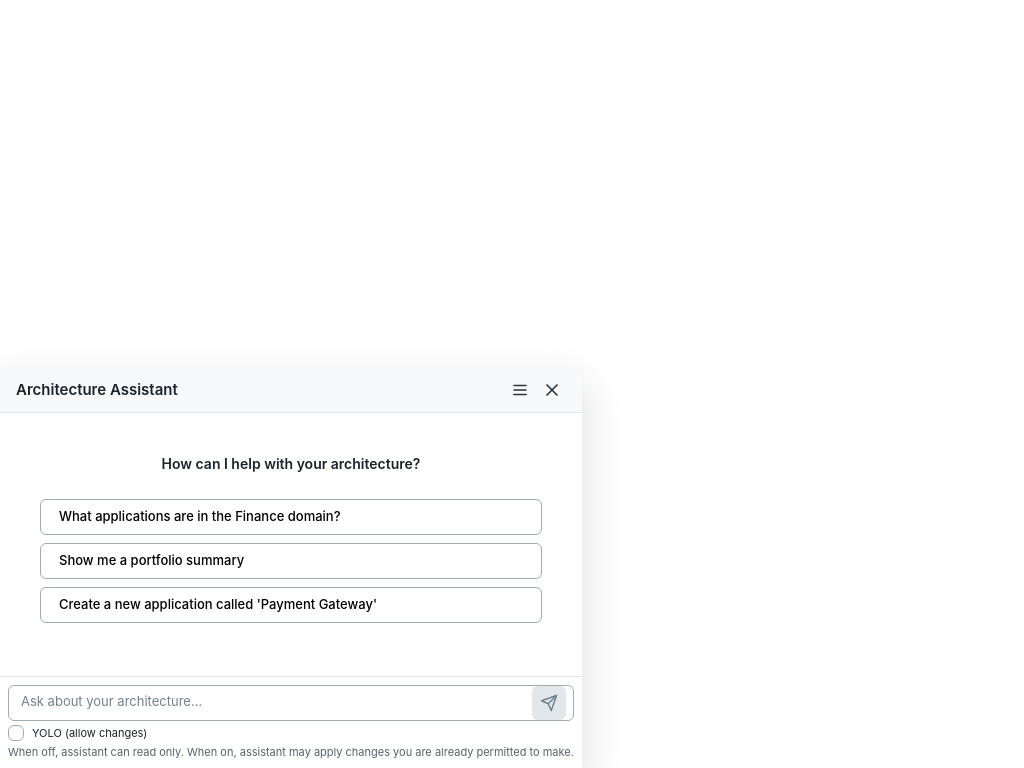
ChatPanel › should load conversation messages when selecting a previous conversation
Click the button named "Conversation history" at (520, 390), box [506, 376, 534, 404]
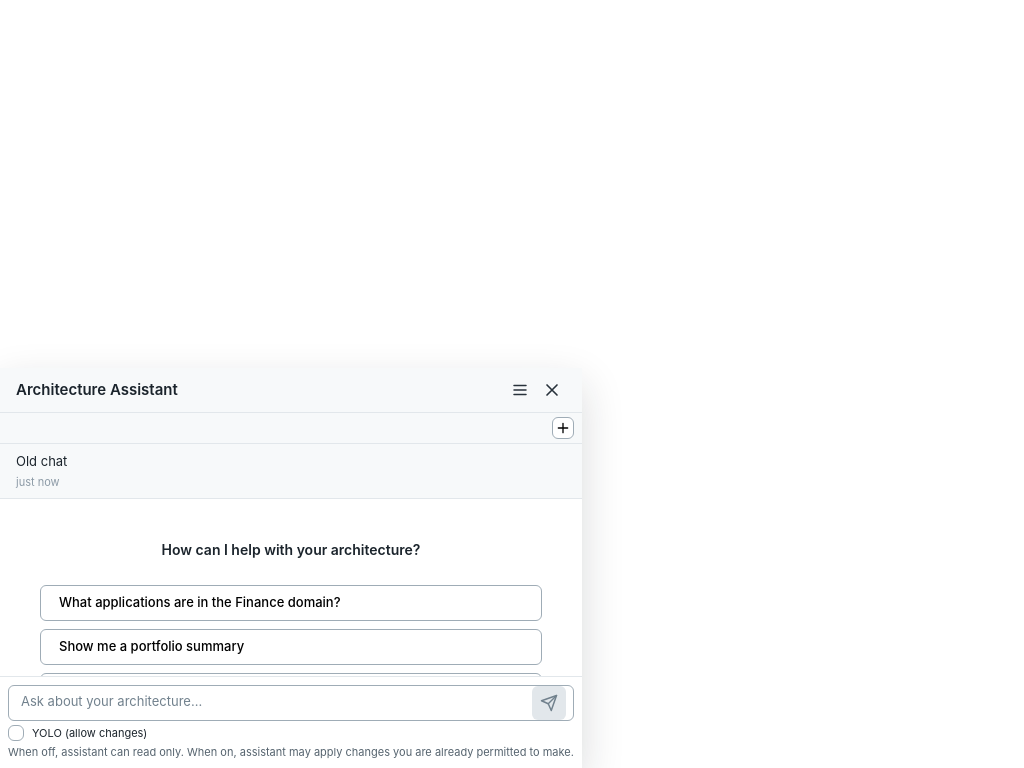
Expected: the text "Old chat" is shown
Click the text "Old chat" at (42, 462), box [16, 452, 67, 472]
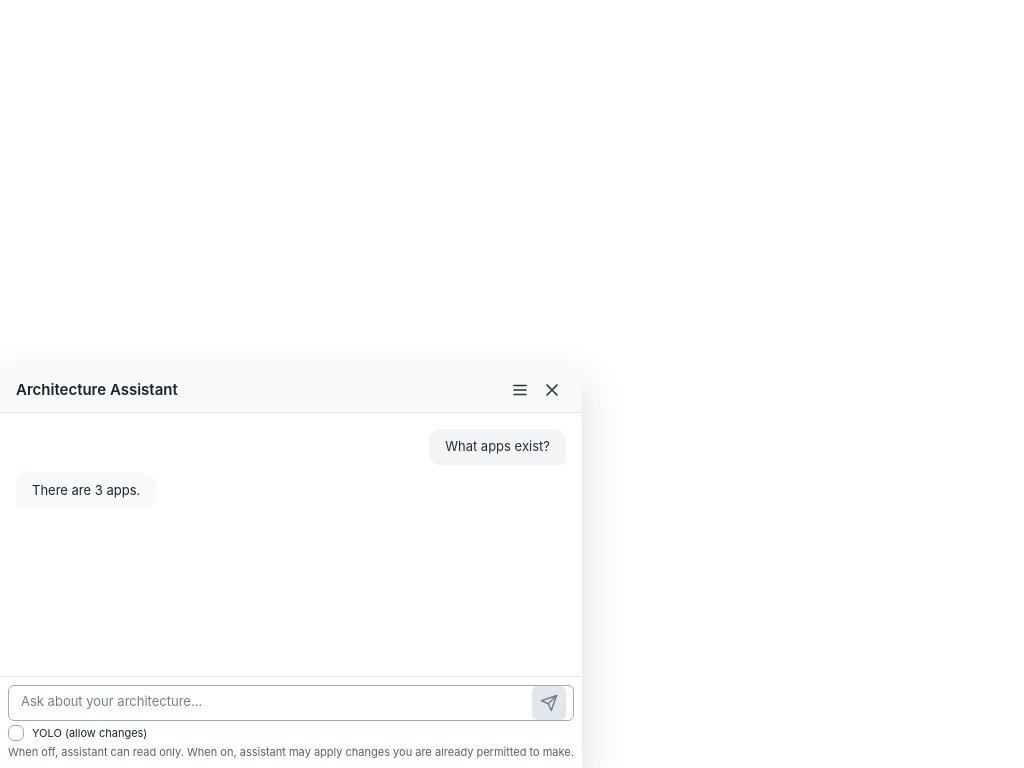
Expected: the text "What apps exist?" is shown, [445, 437, 550, 456]
Expected: the text "There are 3 apps." is shown, [32, 480, 140, 500]
